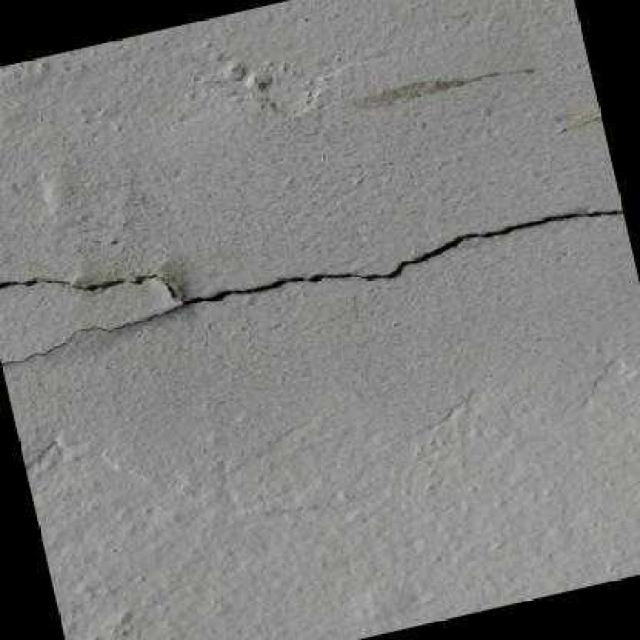D00: (0, 203, 624, 368)
